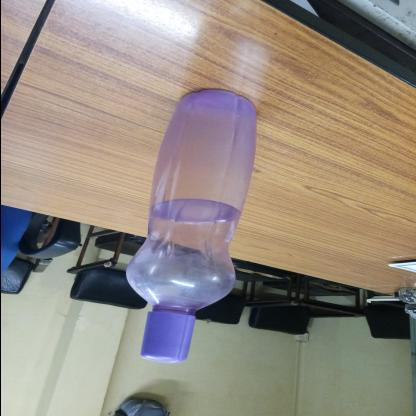bottle: (1, 223, 350, 326)
